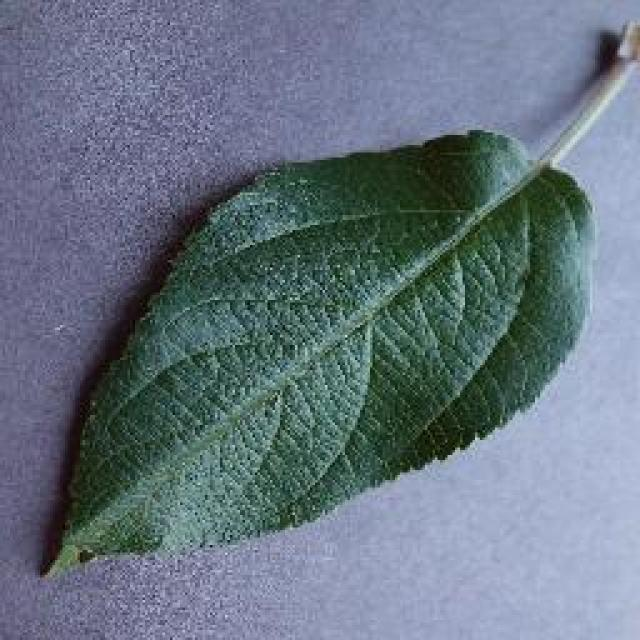apple healthy: (35, 8, 637, 582)
